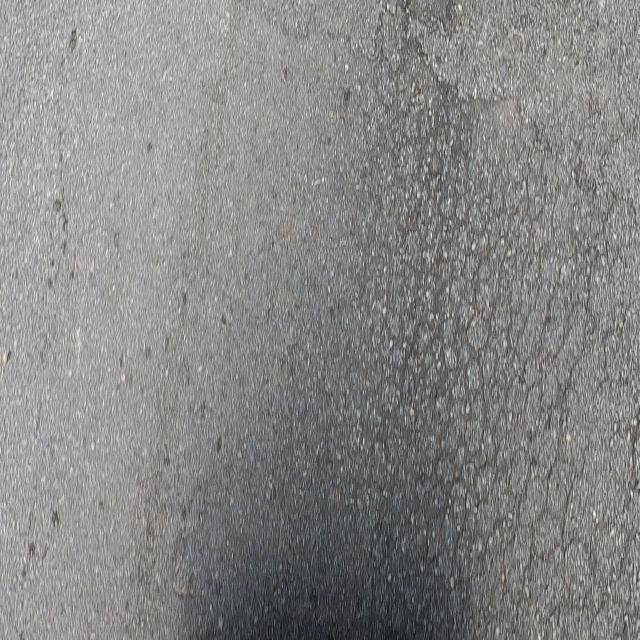Retak-Buaya: (341, 20, 640, 640)
